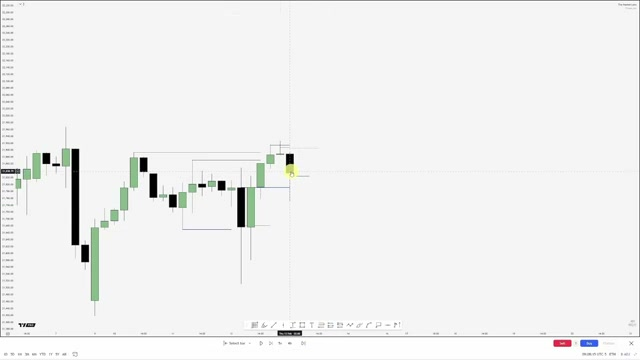liquidity_sweep_high: (342, 144, 374, 166)
